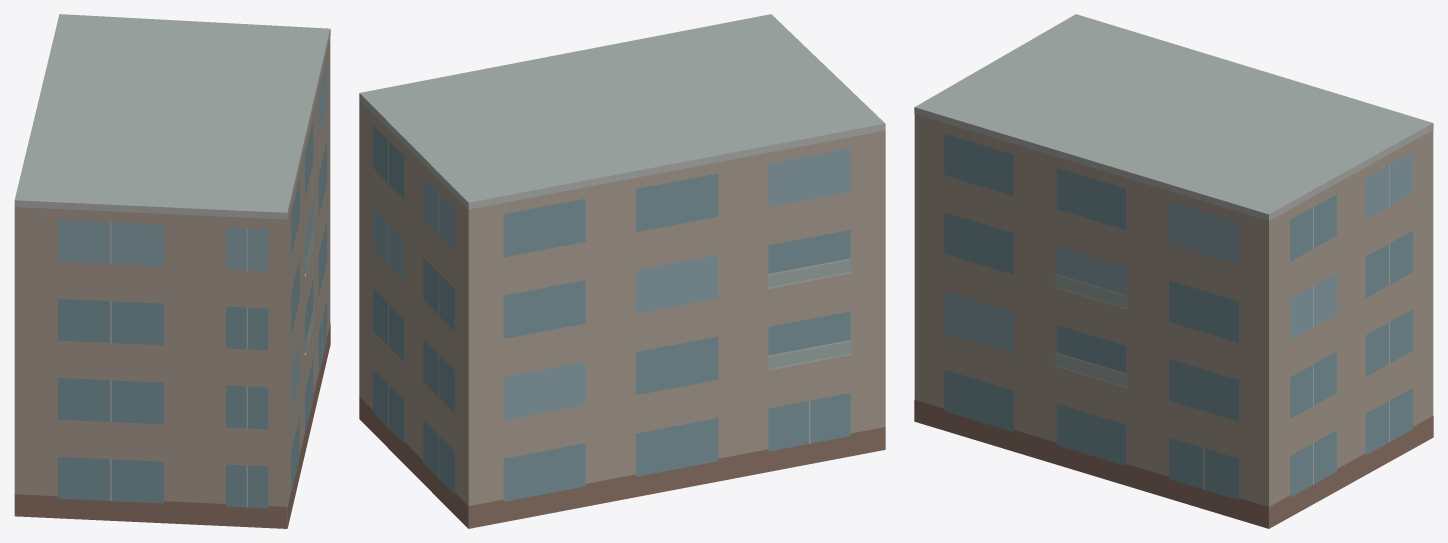
The model's file is survey-upis-32697243.glb.
3 renders of one model, left to right at view 1: azimuth 30°, elevation 25°; view 2: azimuth 150°, elevation 25°; view 3: azimuth 270°, elevation 25°, orthographic. The views are drawn at different scales.
Parts seen in each view (by area): view 1: survey-upis-32697243.tmp; view 2: survey-upis-32697243.tmp; view 3: survey-upis-32697243.tmp.
Boxes of the visible parts, box(x1,y1,x2,y2) form: survey-upis-32697243.tmp: box(14, 14, 330, 528); survey-upis-32697243.tmp: box(359, 14, 885, 528); survey-upis-32697243.tmp: box(914, 14, 1433, 528).
Bounding box in the file's own units: 15.87 × 11.6 × 17.36.
